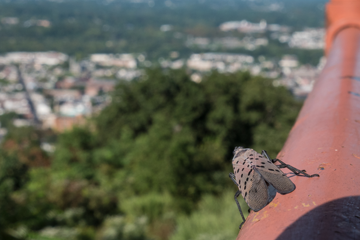adult: (220, 137, 324, 224)
